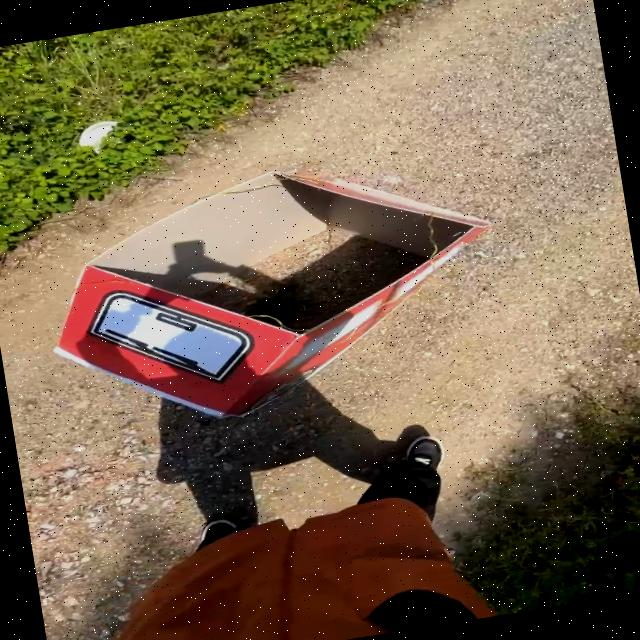red_car: (0, 118, 530, 463)
